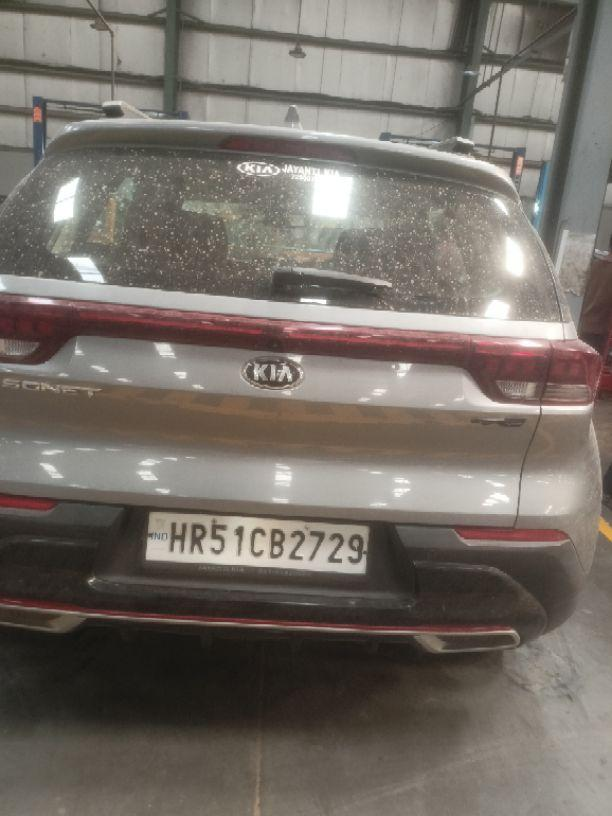license_plate: (139, 508, 372, 578)
